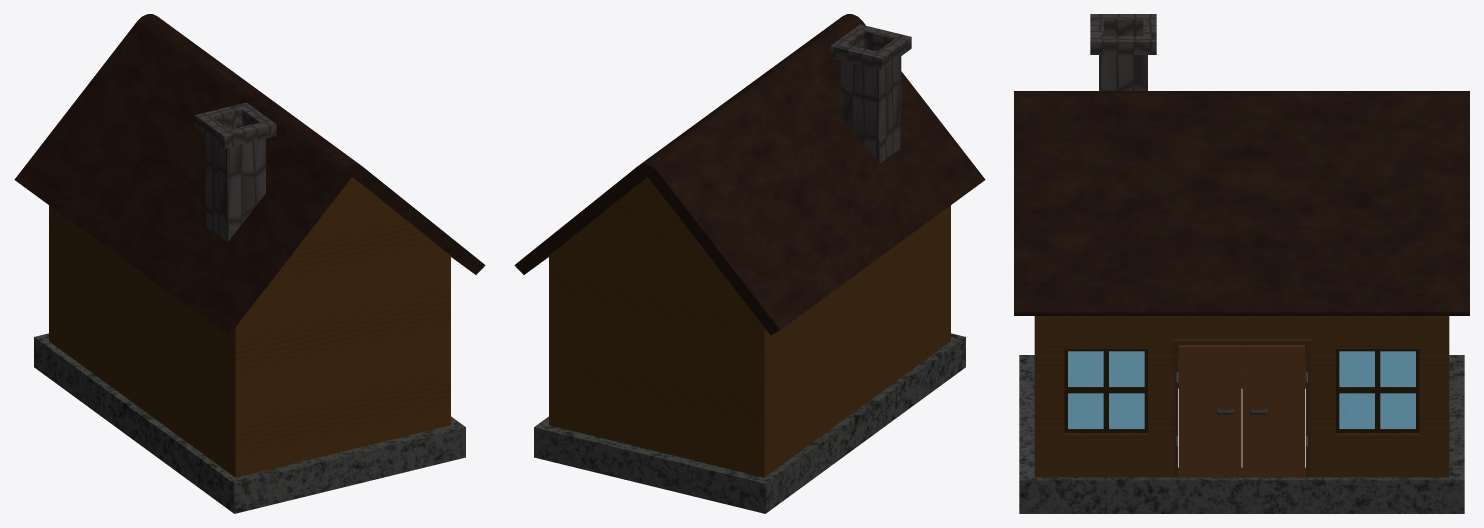
The model's file is BasicHouse.glb.
The picture shows the model from 3 angles, left to right: view 1: azimuth 30°, elevation 25°; view 2: azimuth 150°, elevation 25°; view 3: azimuth 270°, elevation 25°; orthographic projection. The views are drawn at different scales.
Visible parts, largest first — view 1: House, Roof, House foundation, Chimney; view 2: House, Roof, House foundation, Chimney; view 3: Roof, House, House foundation, Doors, Window Panel, Chimney, Window Frame, DoorFrame.
Part boxes in pixels (x1,y1,x2,y2): House: [49, 177, 450, 477]; Roof: [14, 14, 485, 335]; House foundation: [34, 333, 465, 513]; Chimney: [195, 102, 276, 242]; House: [549, 177, 950, 477]; Roof: [514, 14, 985, 335]; House foundation: [534, 333, 965, 513]; Chimney: [830, 24, 911, 163]; Roof: [1014, 91, 1469, 315]; House: [1034, 316, 1449, 477]; House foundation: [1019, 355, 1464, 513]; Doors: [1179, 345, 1304, 476]; Window Panel: [1068, 351, 1415, 428]; Chimney: [1090, 14, 1156, 90]; Window Frame: [1064, 349, 1419, 433]; DoorFrame: [1173, 339, 1310, 477].
Size of the model in its own units: 4.93 by 6.17 by 6.6.
Materials: 5 (1 with a texture image).
